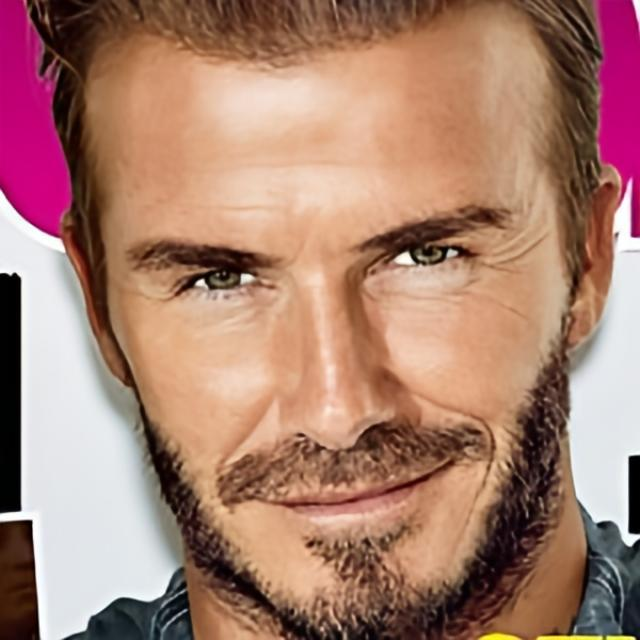content: (77, 0, 568, 640)
